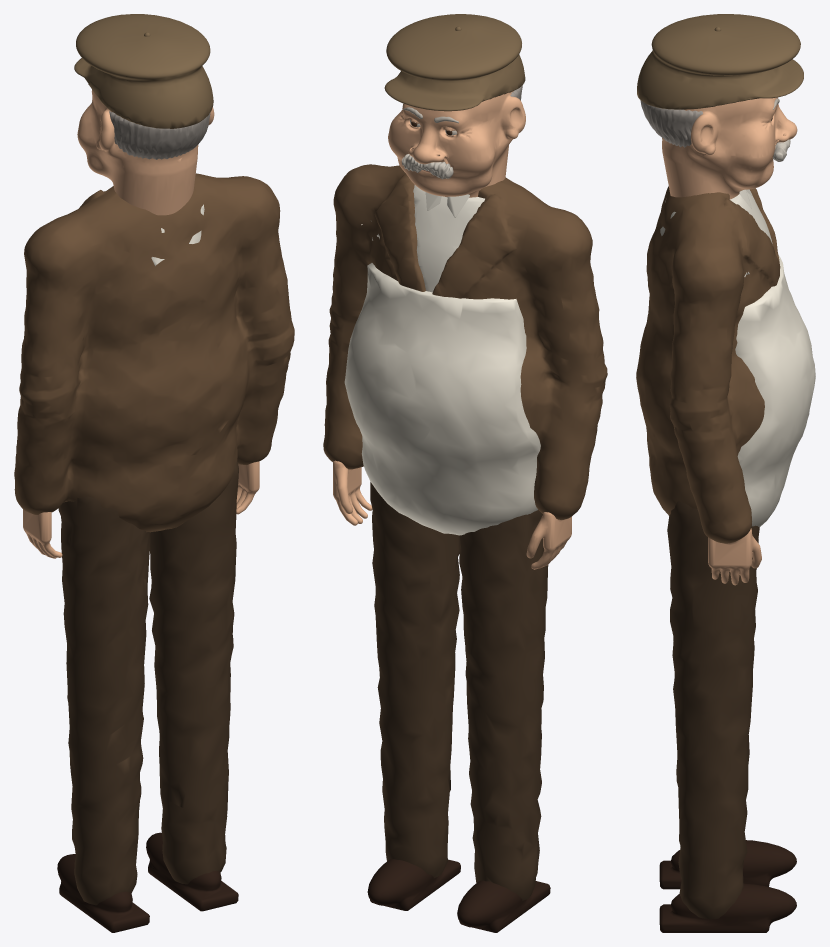
Rendered from walter.fbx.
3 renders of one model, left to right at view 1: azimuth 30°, elevation 25°; view 2: azimuth 150°, elevation 25°; view 3: azimuth 270°, elevation 25°, orthographic.
Parts seen in each view (by area): view 1: Body, Hat, Head, HandR, HandL; view 2: Body, Hat, Head, HandL, HandR; view 3: Body, Hat, Head, HandL.
Boxes of the visible parts, box(x1,y1,x2,y2) form: Body: box(14, 173, 294, 932); Hat: box(74, 14, 213, 128); Head: box(77, 90, 214, 215); HandR: box(23, 509, 62, 558); HandL: box(236, 461, 259, 514); Body: box(323, 164, 607, 932); Hat: box(384, 14, 525, 111); Head: box(388, 86, 525, 197); HandL: box(333, 460, 372, 525); HandR: box(526, 512, 571, 569); Body: box(636, 186, 815, 932); Hat: box(637, 14, 803, 109); Head: box(640, 97, 797, 199); HandL: box(708, 528, 761, 585).
Size of the model in its own units: 0.57 by 1.76 by 0.3275.
